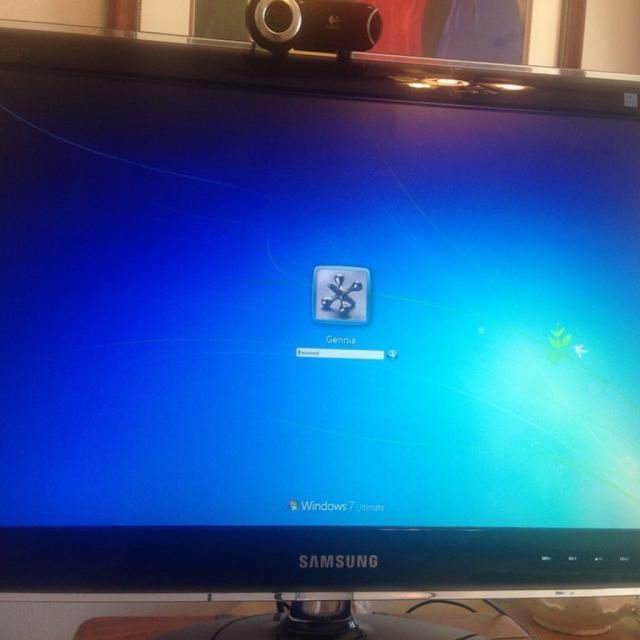others: (1, 2, 640, 620)
